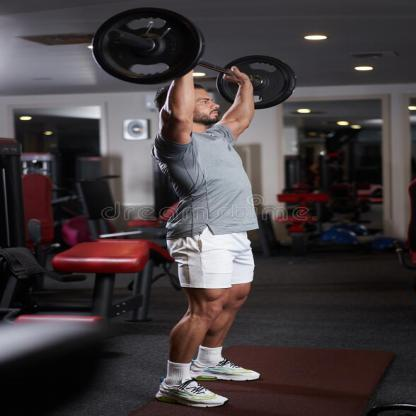barbell: (90, 3, 298, 112)
